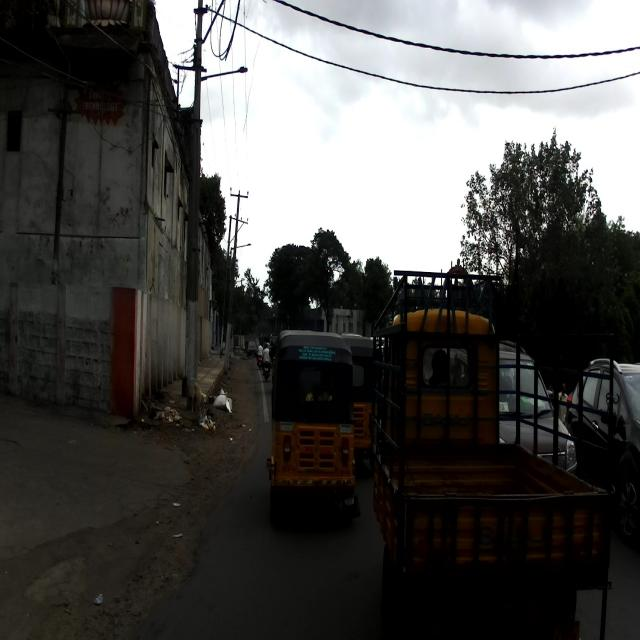autorickshaw: (368, 259, 616, 639), (266, 327, 360, 533)
